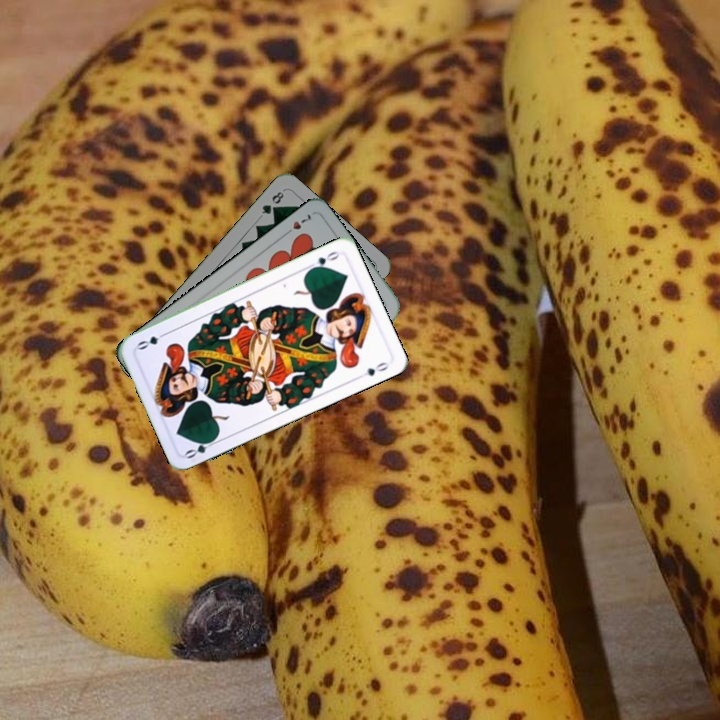G8: (257, 187, 287, 217)
GO: (181, 434, 220, 461), (303, 247, 342, 273)
H7: (279, 210, 315, 239)
